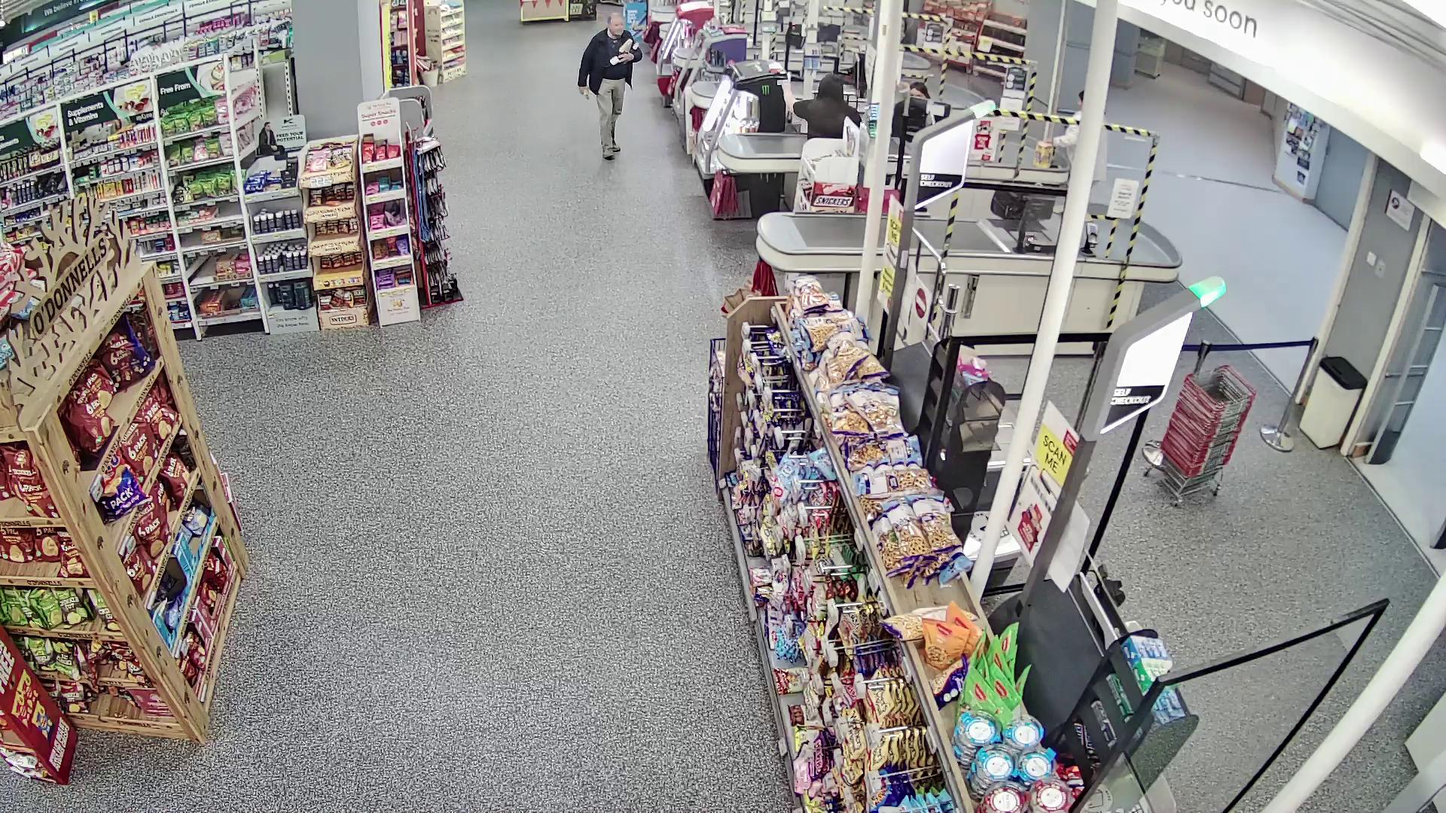carrying-item: (605, 39, 640, 74), (578, 83, 593, 101)
person: (579, 14, 642, 159)
person-with-carrying-item: (577, 14, 641, 159)
